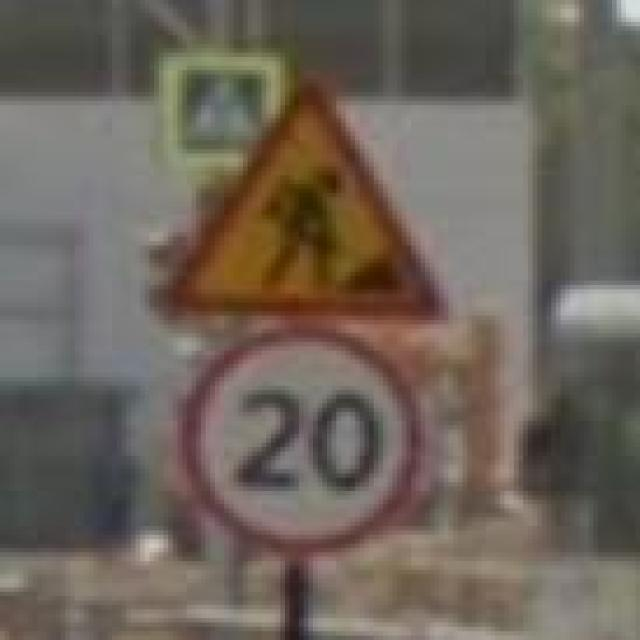forb_speed_over_20: (178, 324, 425, 557)
